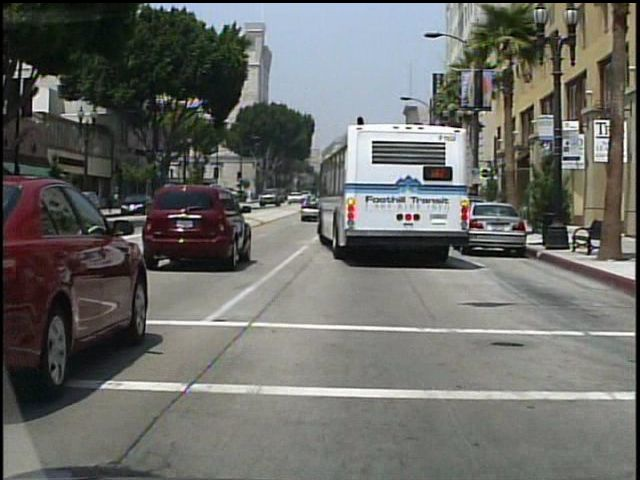person: (473, 183, 486, 226)
